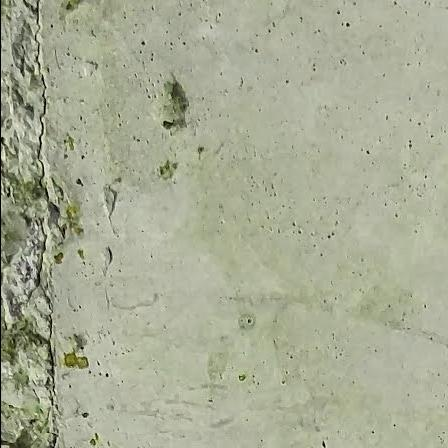crack: (19, 0, 60, 221), (16, 215, 61, 402)
spalling: (0, 403, 58, 447)
